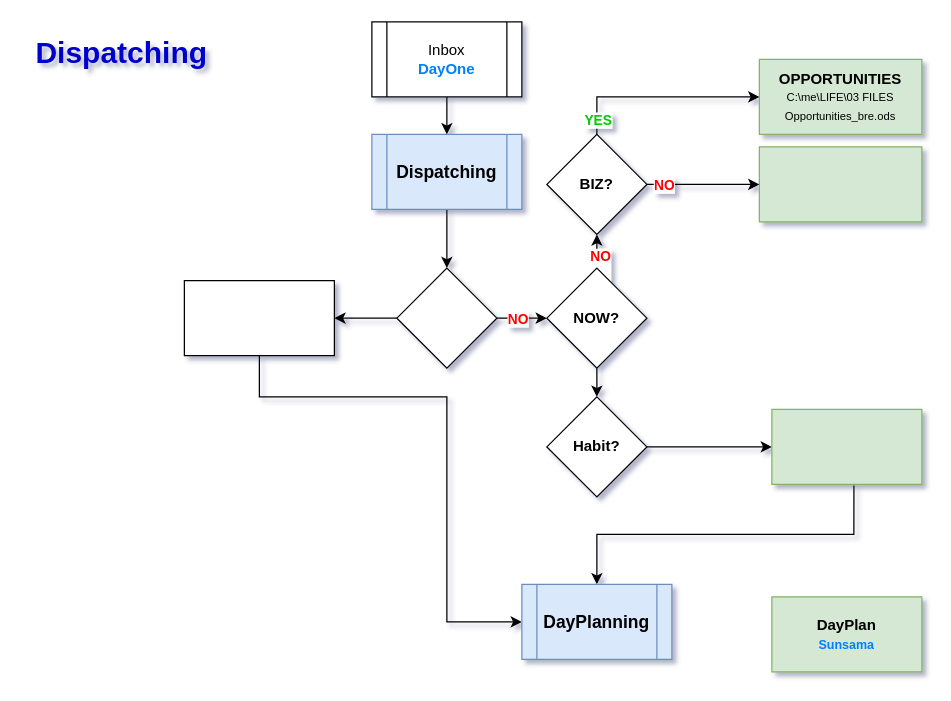
The diagram is 951 pixels wide and 701 high, and some of its shapes have lost their labels. Each missing label, with the centre of its shape:
BUCKET-List C:\me\LIFE\03 FILES Opportunities_bre.ods: the point at 840,184
List of Habits Gewohnheiten.md Job, Work, Sport, Hobbies, Lesen, Finance: the point at 846,446
Project?: the point at 446,317
ProjectLists ClickUp: the point at 258,317
